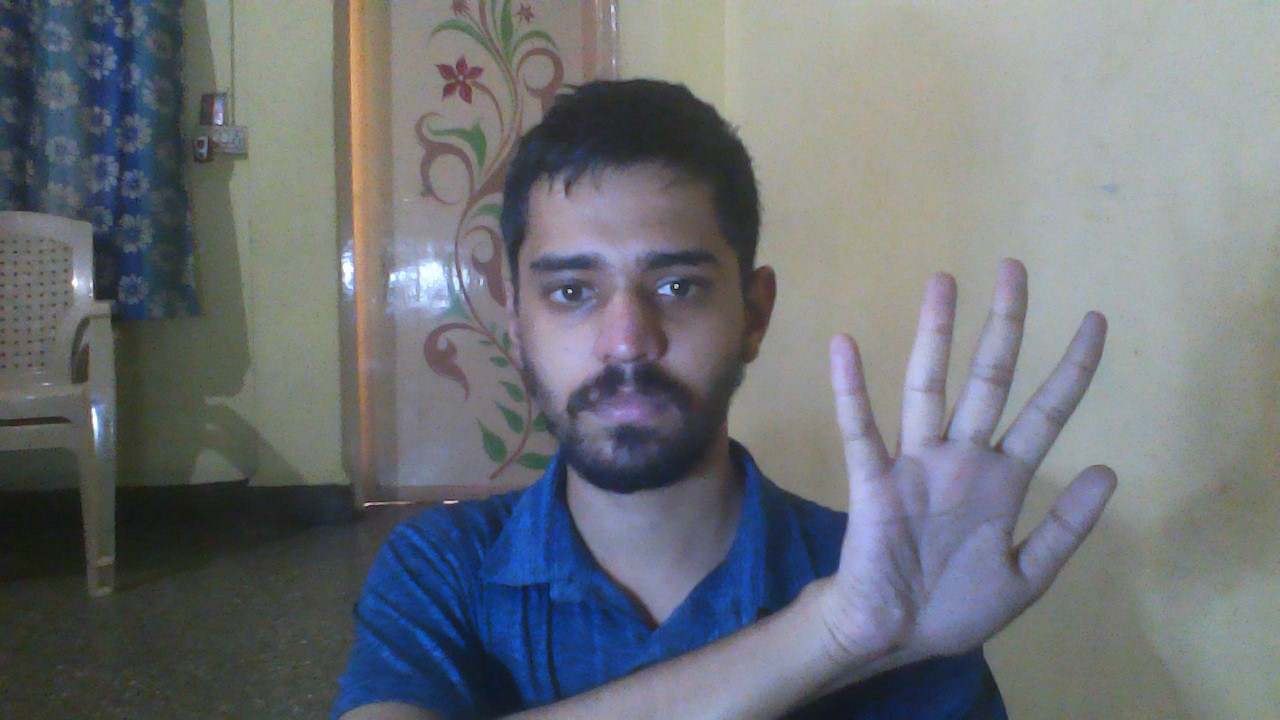hello: (812, 241, 1127, 697)
